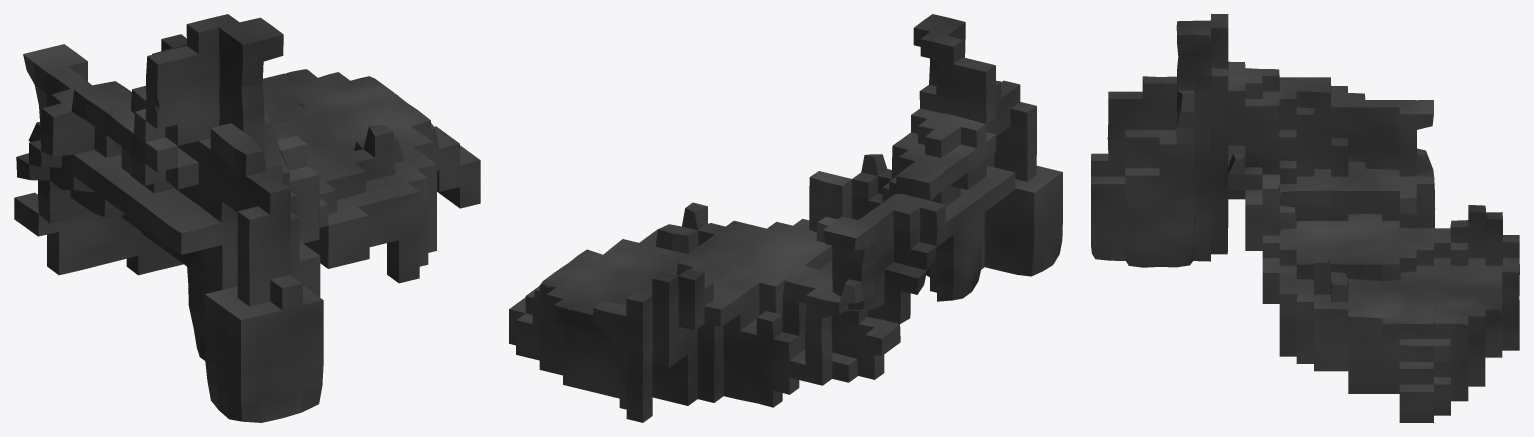
Rendered from starting_world.glb.
The picture shows the model from 3 angles, left to right: view 1: azimuth 30°, elevation 25°; view 2: azimuth 150°, elevation 25°; view 3: azimuth 270°, elevation 25°; orthographic projection. The views are drawn at different scales.
Visible parts, largest first — view 1: mountain_part; view 2: mountain_part; view 3: mountain_part.
Part boxes in pixels (x1,y1,x2,y2): mountain_part: [14, 14, 480, 422]; mountain_part: [509, 14, 1062, 422]; mountain_part: [1091, 14, 1519, 422].
Bounding box in the file's own units: 46.11 × 34.14 × 50.03.
1 material, 1 textured.
